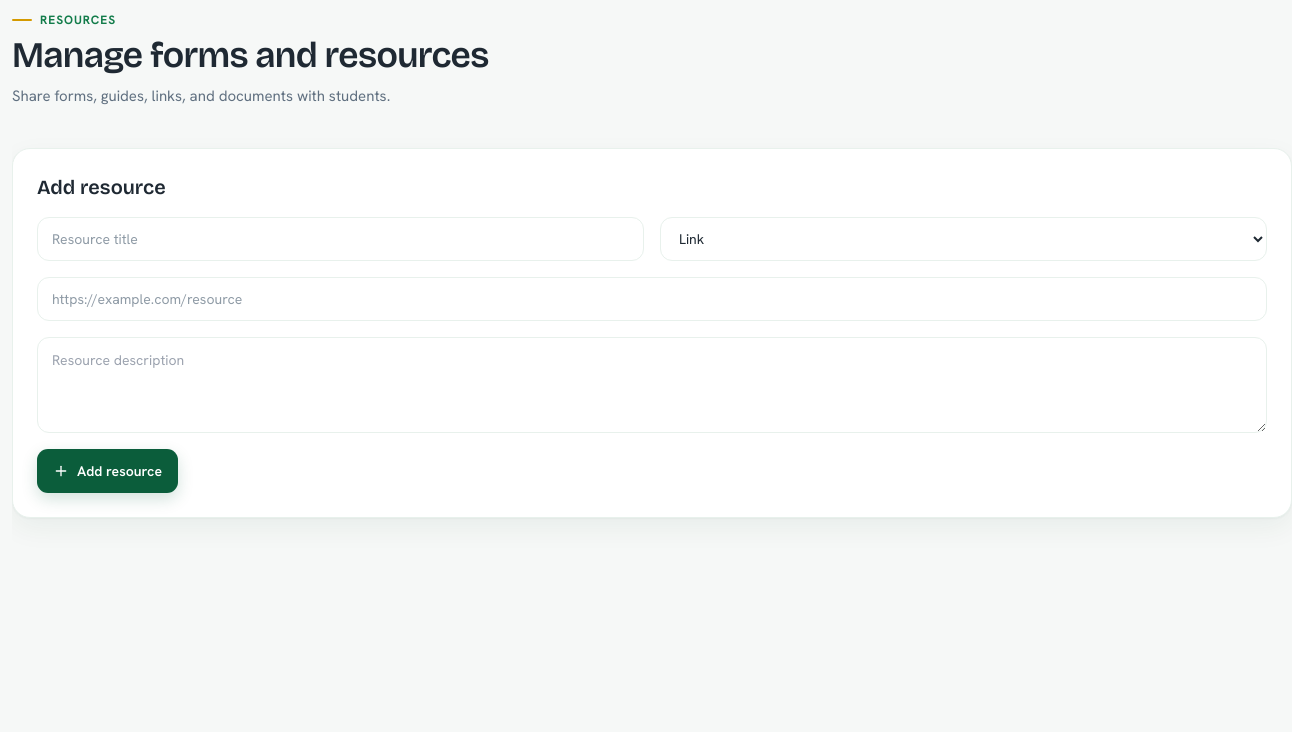
Test: officer form lifecycle › resets a resource form after its asynchronous write
Type "Officer handbook" into the field with placeholder "Resource title".
click(340, 239); type("Officer handbook")  # box [37,217,644,261]
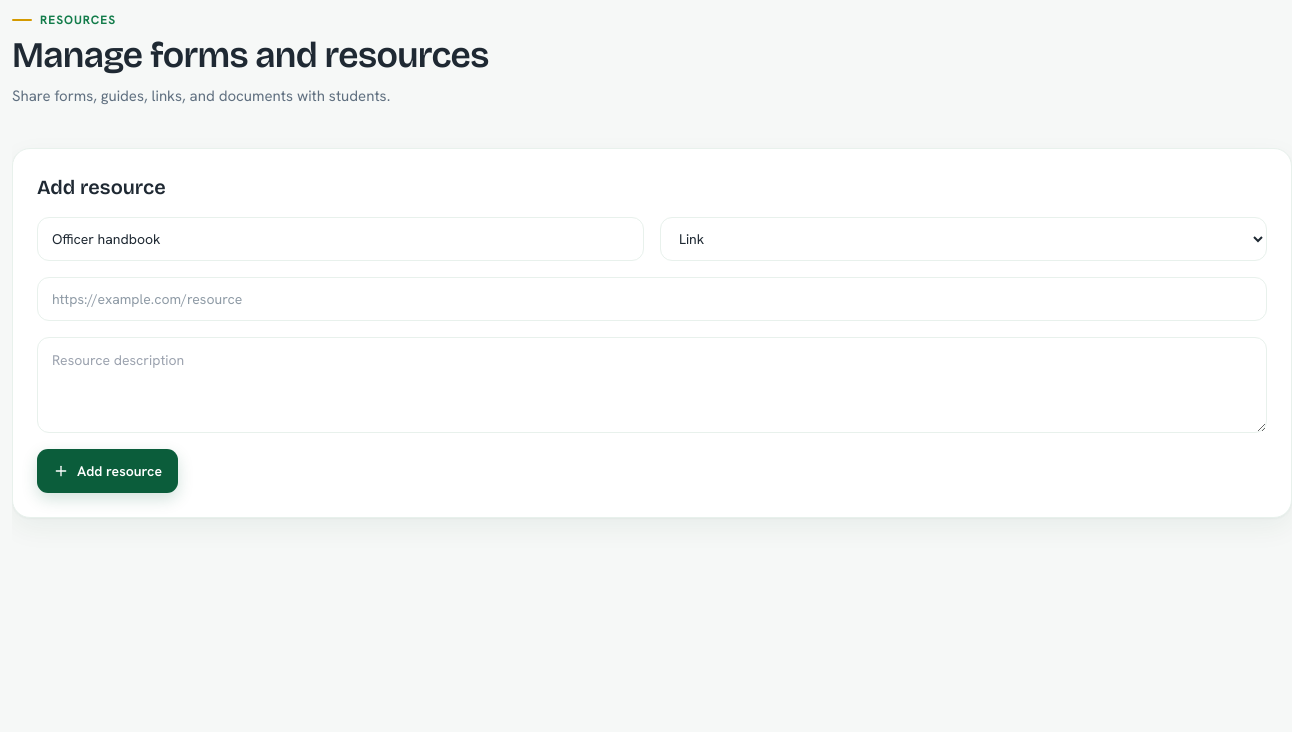
Submit the form with placeholder "Resource title", box [37,217,1267,493]
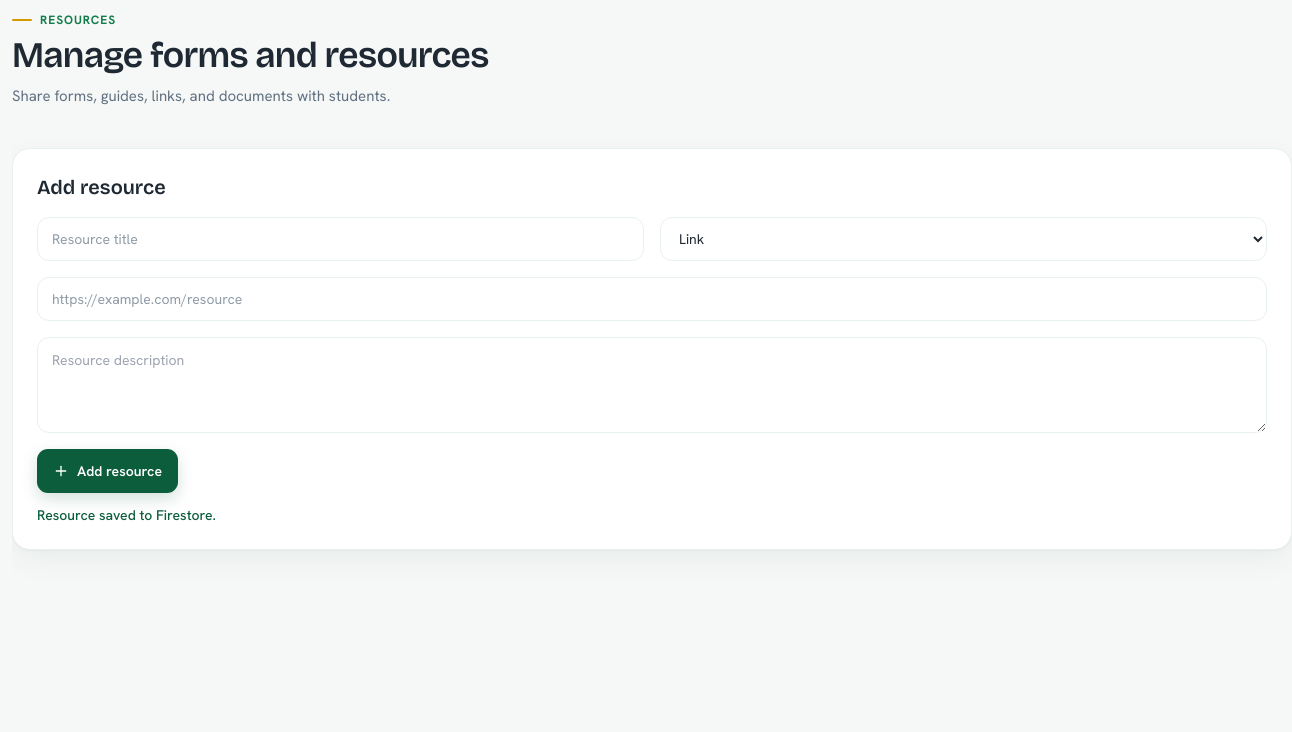
Now the text "Resource saved to Firestore." is shown, box [37,506,216,524]
Now the field with placeholder "Resource title" is empty, box [37,217,644,261]
